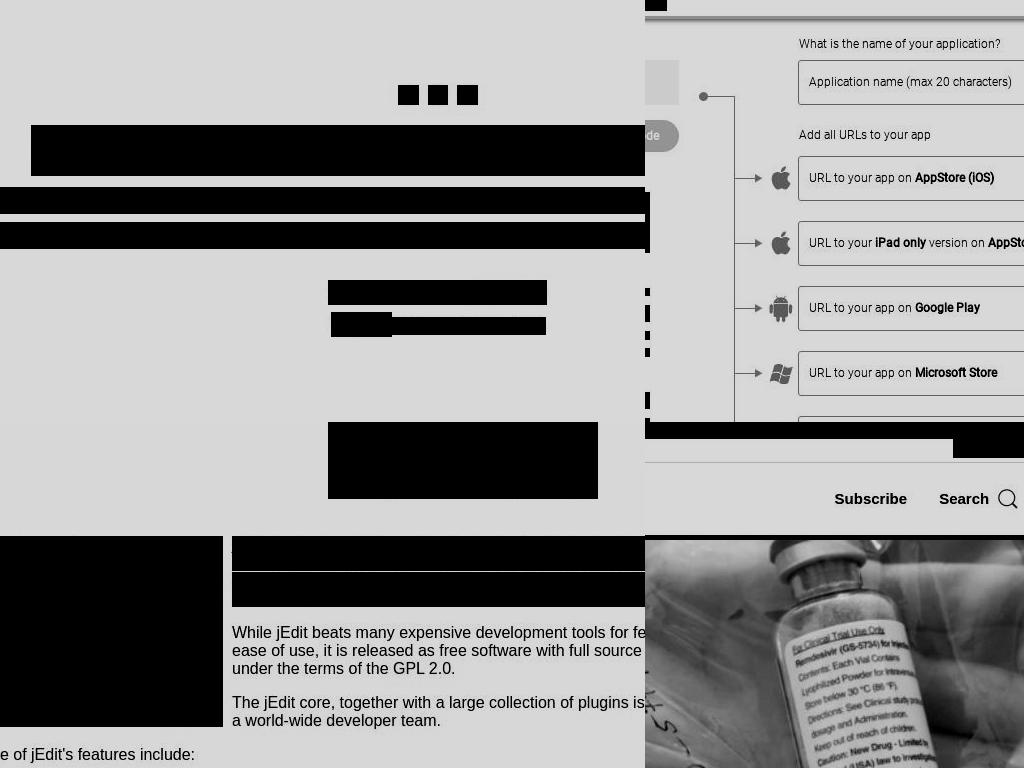button: (939, 487, 1020, 510), (834, 489, 908, 508)
field: (799, 61, 1024, 104), (799, 157, 1024, 200), (799, 222, 1024, 265), (799, 287, 1024, 330), (799, 352, 1024, 395)
heading: (645, 422, 1024, 768), (31, 125, 618, 176)
image: (645, 539, 1024, 768), (0, 536, 223, 727), (328, 422, 598, 499), (699, 92, 735, 207), (734, 60, 764, 125), (734, 156, 764, 221), (734, 221, 764, 286), (734, 286, 764, 351), (734, 351, 764, 416), (767, 69, 795, 134), (767, 165, 795, 193), (767, 230, 795, 258), (767, 295, 795, 323), (767, 360, 795, 388), (997, 487, 1020, 510), (398, 85, 419, 105), (457, 85, 478, 105), (428, 85, 448, 105)
link: (245, 712, 438, 729), (474, 280, 547, 305), (298, 590, 378, 607), (232, 572, 301, 589), (392, 660, 451, 677), (577, 694, 629, 711), (645, 0, 667, 11)
text: (232, 624, 645, 677), (0, 187, 645, 214), (0, 222, 645, 249), (232, 536, 645, 571), (232, 572, 645, 607), (232, 694, 645, 729), (0, 746, 645, 764), (734, 34, 1024, 55), (734, 125, 1024, 146), (232, 694, 578, 711), (328, 280, 475, 305), (809, 75, 1012, 89), (391, 317, 546, 335), (953, 434, 1024, 458), (331, 312, 392, 337), (809, 171, 915, 185), (809, 301, 915, 315), (809, 366, 915, 380), (645, 162, 714, 183), (915, 366, 997, 380), (915, 171, 994, 185), (809, 236, 875, 250), (939, 489, 990, 507), (915, 301, 980, 315), (926, 236, 988, 250), (377, 590, 422, 607), (875, 236, 926, 250), (988, 236, 1024, 250), (645, 129, 659, 143), (451, 660, 457, 677), (436, 712, 441, 729)
